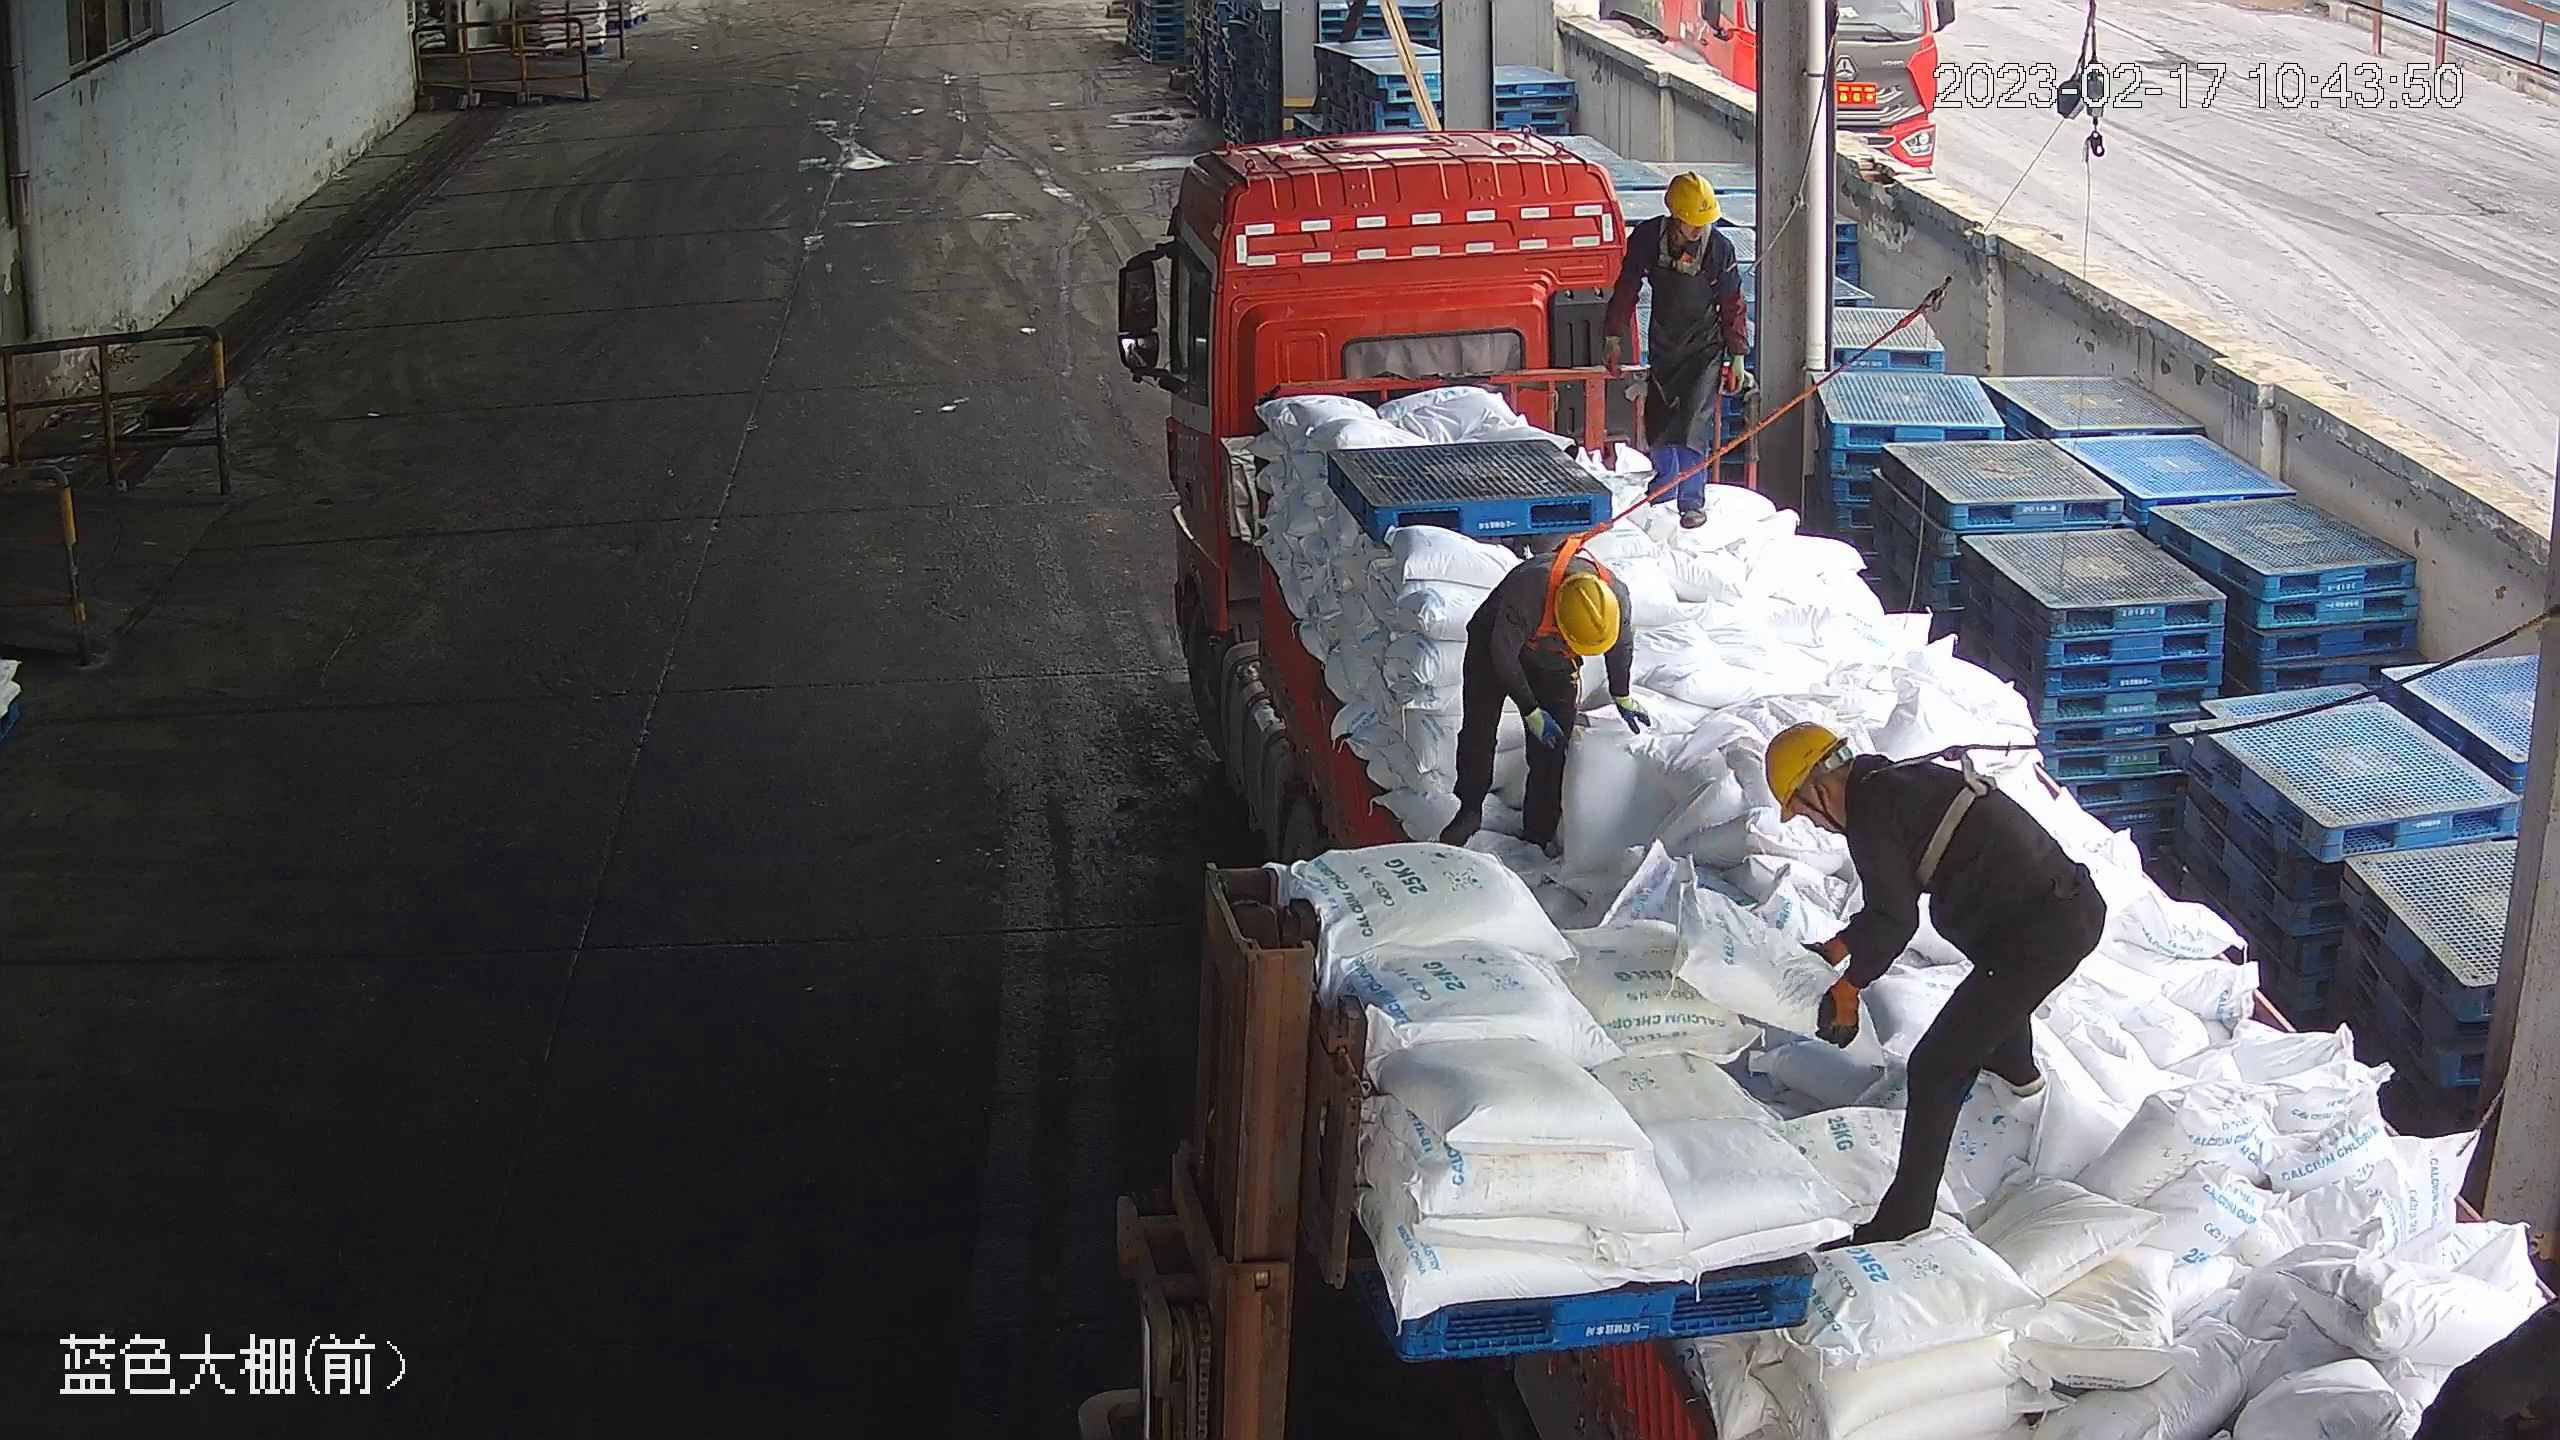belt: (1862, 743, 2010, 884), (1543, 528, 1620, 625), (1654, 220, 1722, 276)
head: (1761, 720, 1948, 868), (1488, 553, 1632, 677), (1613, 168, 1741, 283)
helmet: (1763, 719, 1847, 817), (1549, 566, 1624, 661), (1664, 167, 1720, 227)
people: (1770, 713, 2105, 1247), (1442, 536, 1639, 859), (1608, 168, 1751, 533)
truck: (1136, 107, 2551, 1440)
